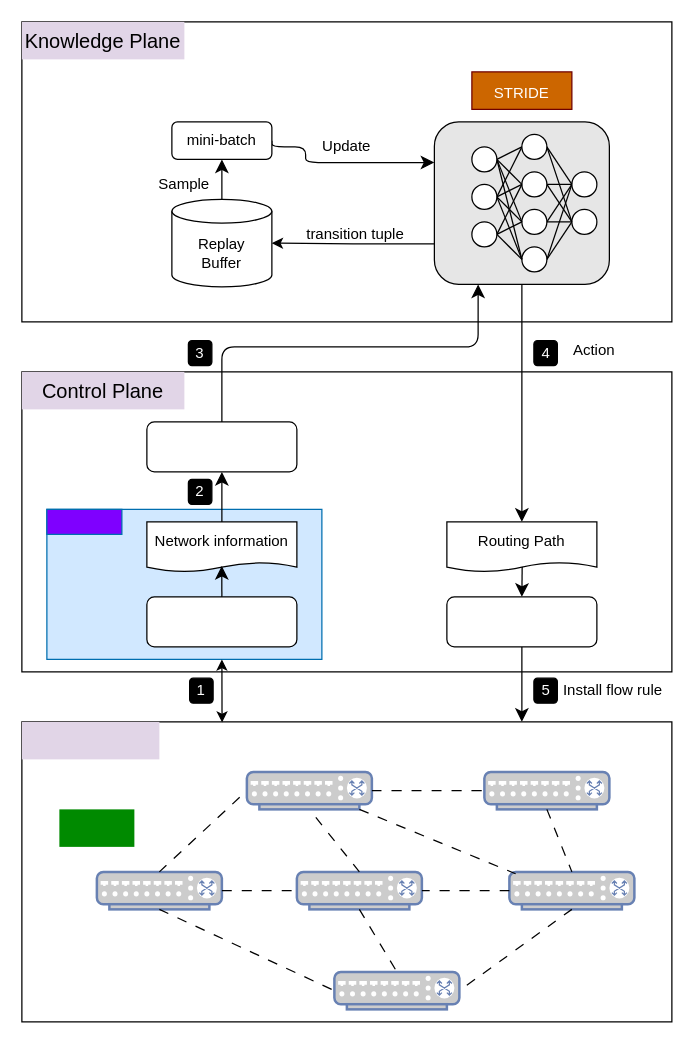
Image size: 694x1044. Some labels were removed from this diagram. Each missing label, with the centre of its shape:
"Data Plane" belongs at point (90, 740).
"Data processing Module" belongs at point (221, 446).
"Flow Install Module" belongs at point (521, 621).
"monitor" belongs at point (84, 521).
"Network Information Statistic Module" belongs at point (221, 621).
"OVS" belongs at point (96, 827).
